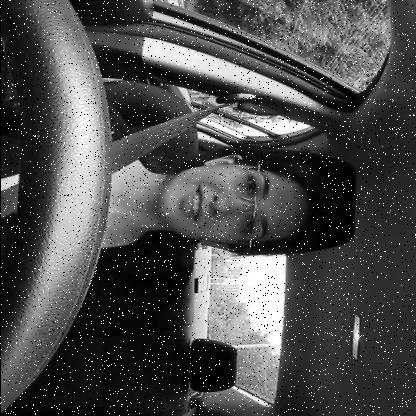seatbelt: (0, 90, 343, 260)
